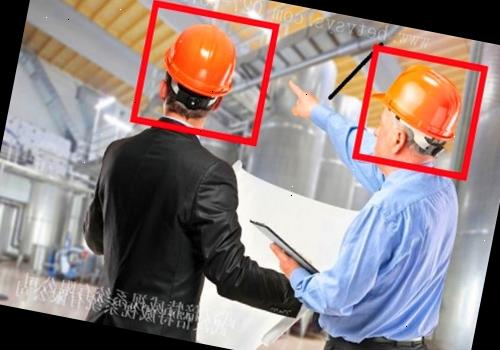helmet: (155, 16, 244, 102)
no_wear: (80, 136, 233, 344), (316, 163, 460, 350)
